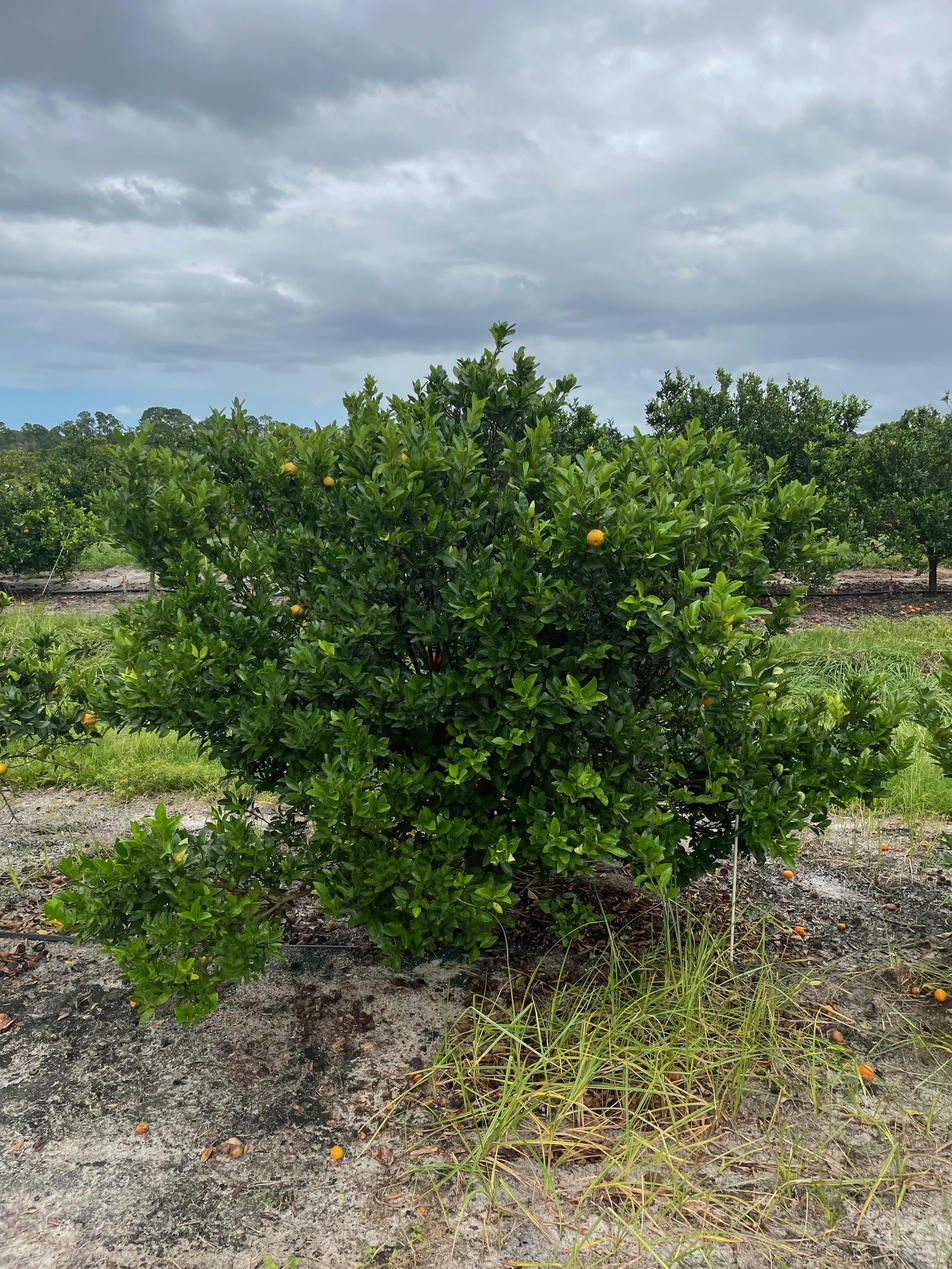fruit_on_ground: (583, 525, 608, 550), (694, 690, 716, 710), (78, 708, 100, 728), (425, 649, 445, 668), (288, 602, 307, 620), (282, 460, 300, 479), (318, 474, 337, 491), (394, 452, 409, 467), (0, 760, 10, 777)
fruit_on_tree: (855, 1061, 878, 1083), (828, 1027, 845, 1045), (932, 986, 950, 1003), (329, 1143, 345, 1161), (134, 1120, 151, 1136), (793, 923, 806, 936), (908, 984, 922, 996), (918, 837, 931, 849), (782, 868, 795, 880), (884, 901, 898, 912), (835, 921, 848, 932), (808, 888, 820, 899), (878, 841, 891, 851)
